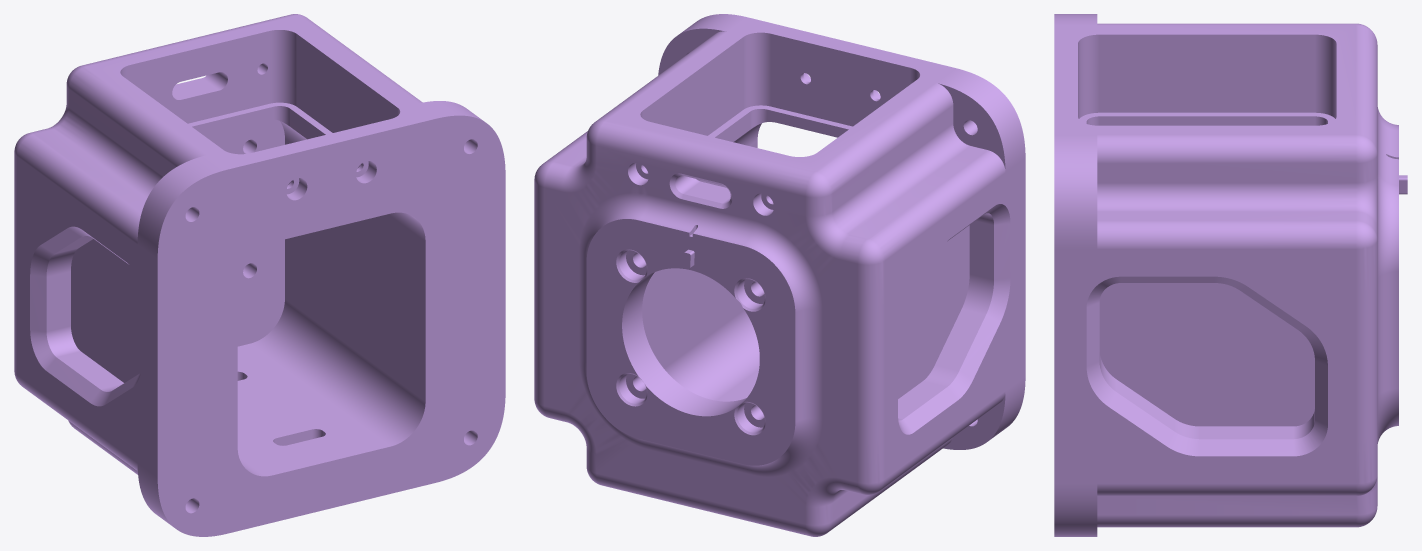
Rendered from Main_Base.dae.
The picture shows the model from 3 angles, left to right: view 1: azimuth 30°, elevation 25°; view 2: azimuth 150°, elevation 25°; view 3: azimuth 270°, elevation 25°; orthographic projection. The views are drawn at different scales.
Parts seen in each view (by area): view 1: Main_Base; view 2: Main_Base; view 3: Main_Base.
Part boxes in pixels (<box>): Main_Base: <box>14,14,505,536</box>; Main_Base: <box>534,14,1025,536</box>; Main_Base: <box>1054,14,1407,536</box>.
Size of the model in its own units: 0.1 by 0.082 by 0.1.
